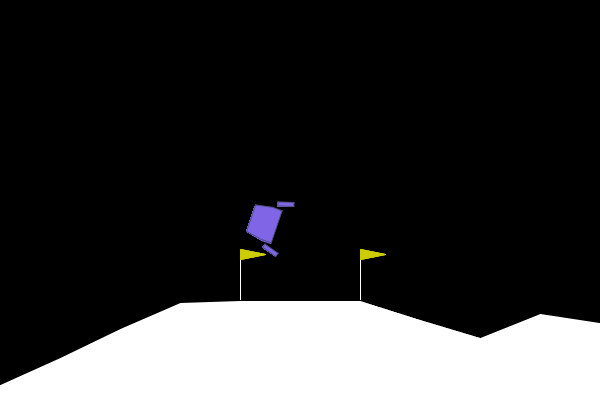lander: (239, 189, 296, 259)
